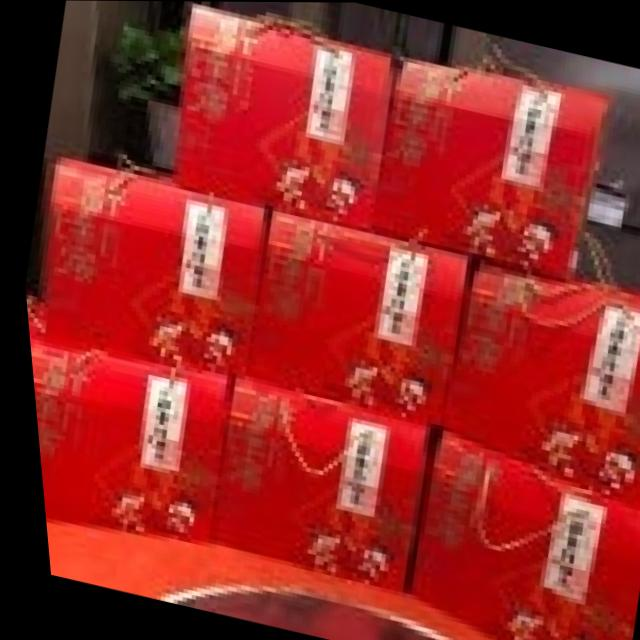box: (366, 54, 608, 284), (431, 252, 640, 516), (391, 424, 640, 640), (20, 290, 223, 546), (41, 151, 264, 380), (172, 3, 394, 232), (197, 380, 431, 592), (237, 213, 468, 424)
